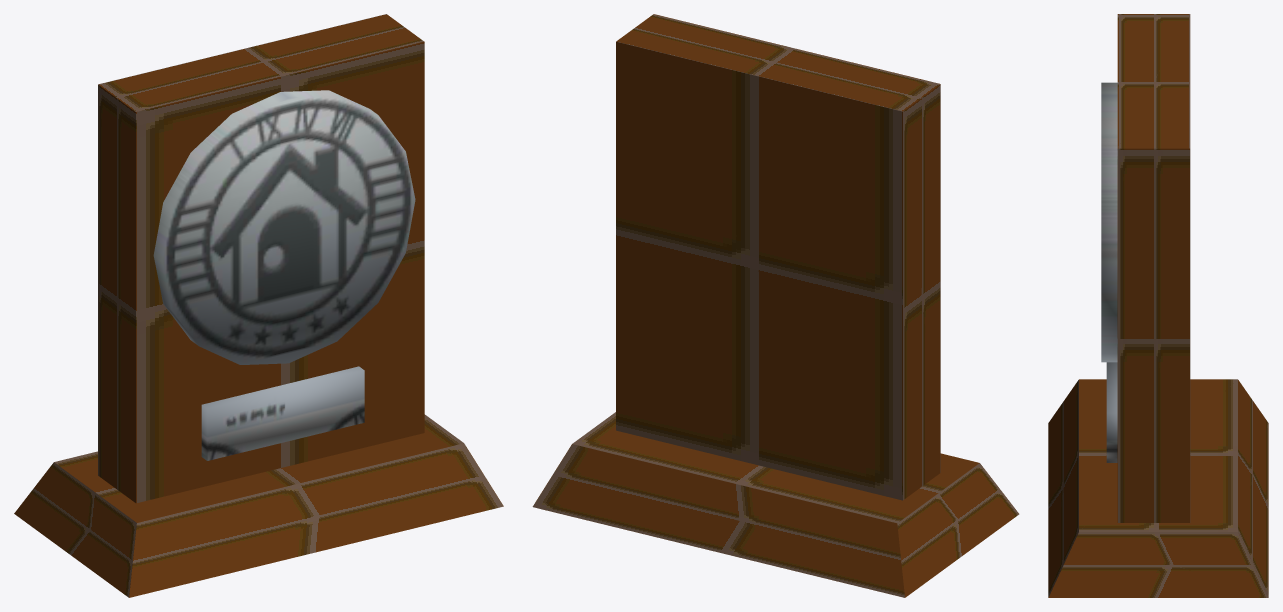
Rendered from int_hha_tate_B.dae.
The picture shows the model from 3 angles, left to right: view 1: azimuth 30°, elevation 25°; view 2: azimuth 150°, elevation 25°; view 3: azimuth 270°, elevation 25°; orthographic projection. The views are drawn at different scales.
Visible parts, largest first — view 1: int_hha_tate_B; view 2: int_hha_tate_B; view 3: int_hha_tate_B.
Boxes of the visible parts, <box> form: int_hha_tate_B: <box>14,14,503,597</box>; int_hha_tate_B: <box>532,14,1019,597</box>; int_hha_tate_B: <box>1048,14,1268,597</box>.
Size of the model in its own units: 16.89 by 19.33 by 8.98.
Materials: 2 (2 with a texture image).
